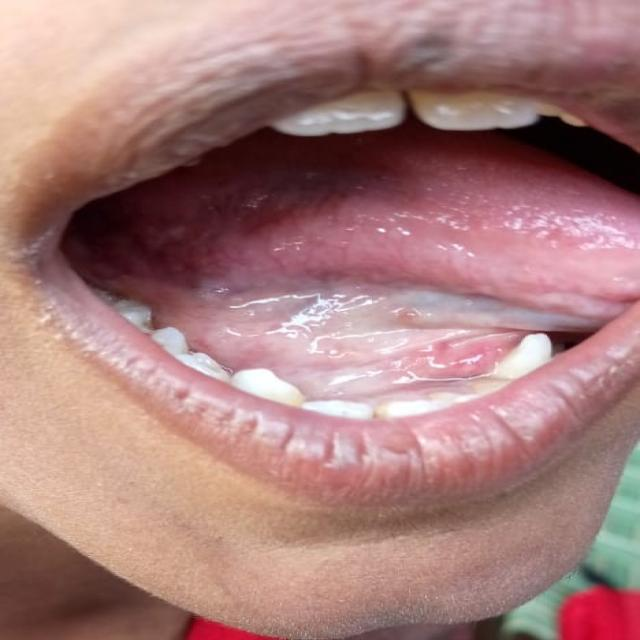No Cancer: (155, 142, 540, 384)
